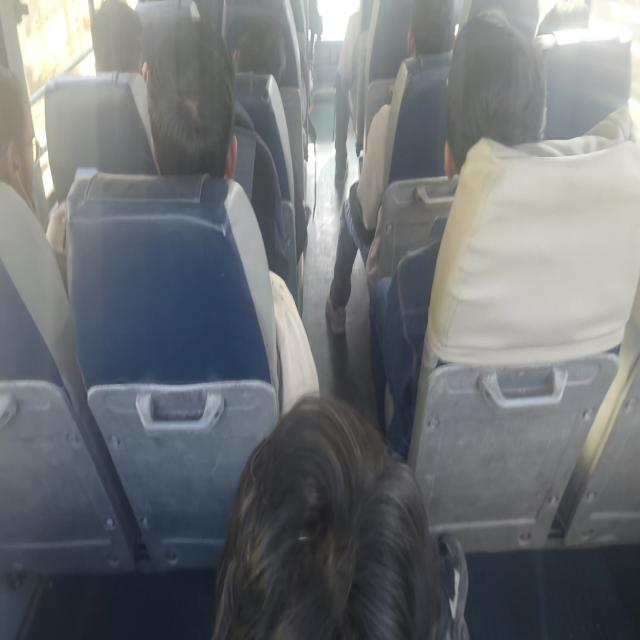person: (233, 399, 457, 640), (433, 8, 556, 160), (148, 18, 236, 189), (0, 71, 39, 219), (79, 0, 151, 74), (243, 9, 283, 108), (402, 0, 454, 58), (539, 0, 587, 33)
